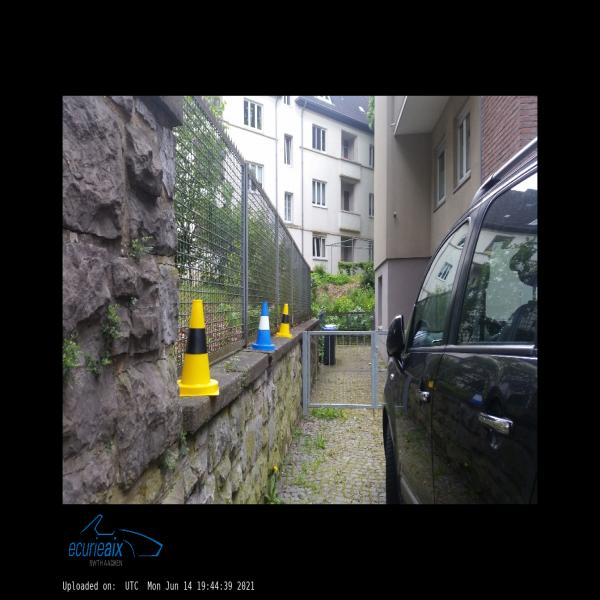blue_cone: (249, 302, 278, 350)
yellow_cone: (178, 300, 219, 396), (276, 304, 292, 338)
